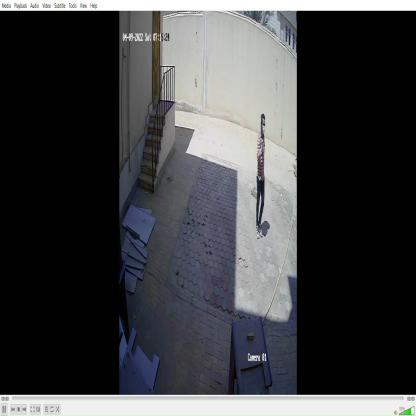handgun: (258, 112, 266, 157)
